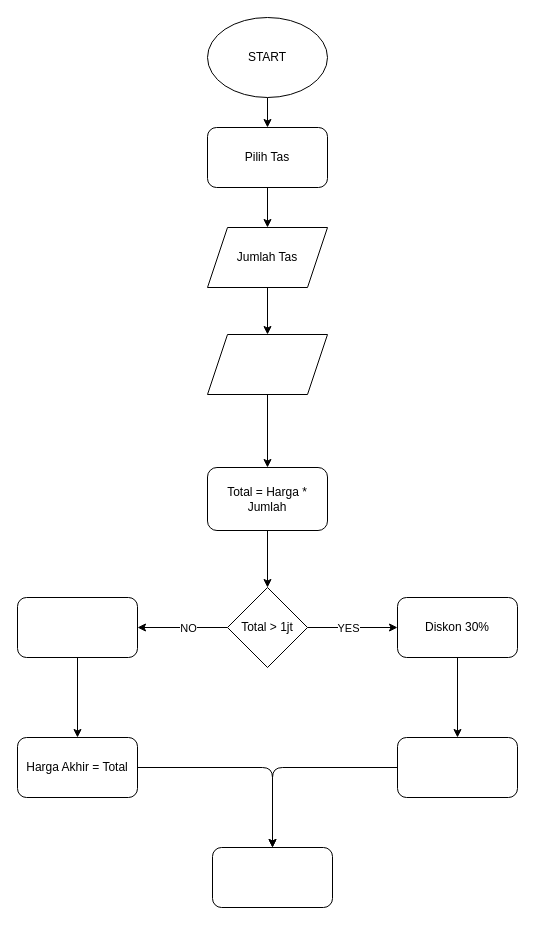
The diagram is 535 pixels wide and 925 high, and some of its shapes have lost their labels. The shapes that lost their labels are listed below. From the top down, each one's centre as x and y in pixels, then its label:
At point (267, 364): "Harga Tas".
At point (77, 627): "Tidak ada diskon".
At point (457, 767): "Harga Akhir = Total * 0,3".
At point (272, 877): "Cetak Harga Akhir".
